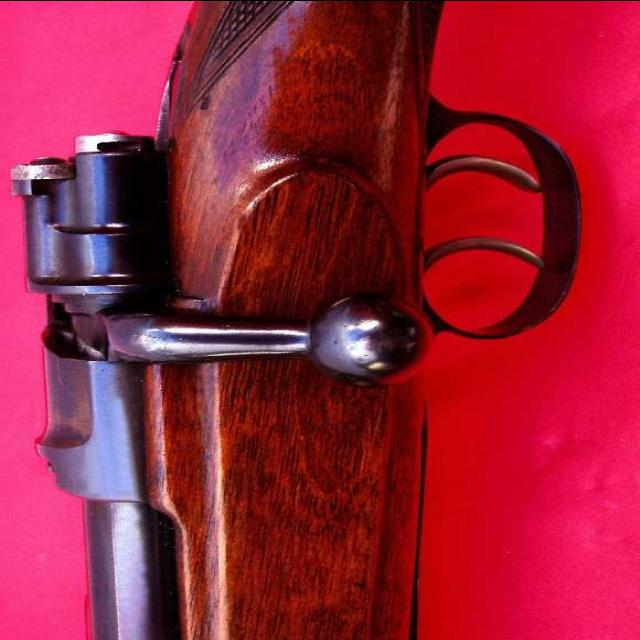heavyweapon: (19, 1, 596, 637)
